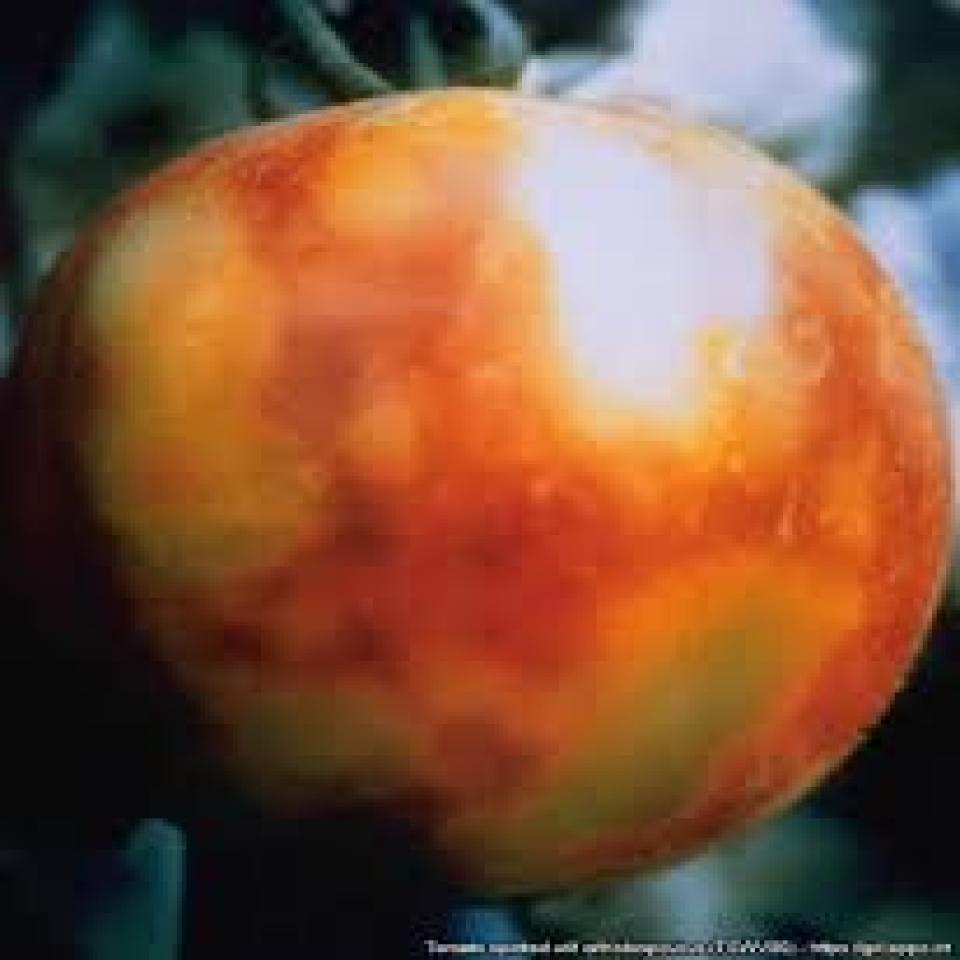Spotted wilt Virus: (23, 90, 946, 897)
